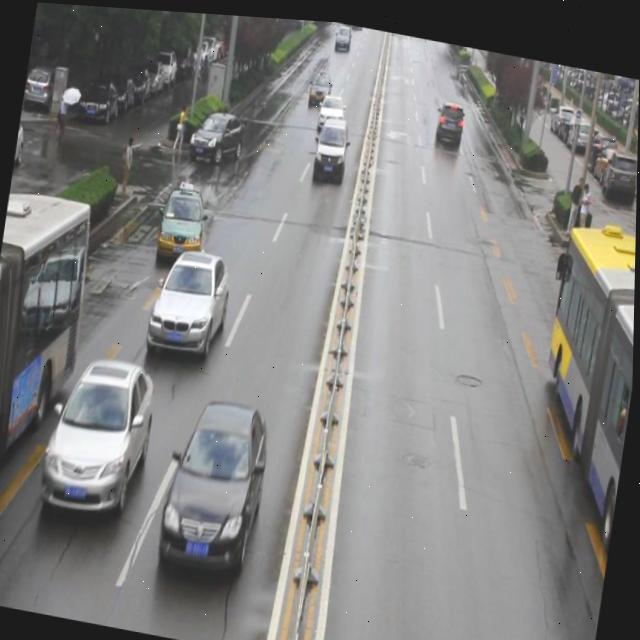car: (158, 391, 275, 581), (39, 349, 158, 528), (146, 243, 234, 361), (156, 176, 210, 262), (187, 103, 247, 164)
truck: (311, 109, 351, 180)
van: (513, 208, 637, 577), (0, 186, 99, 544)
